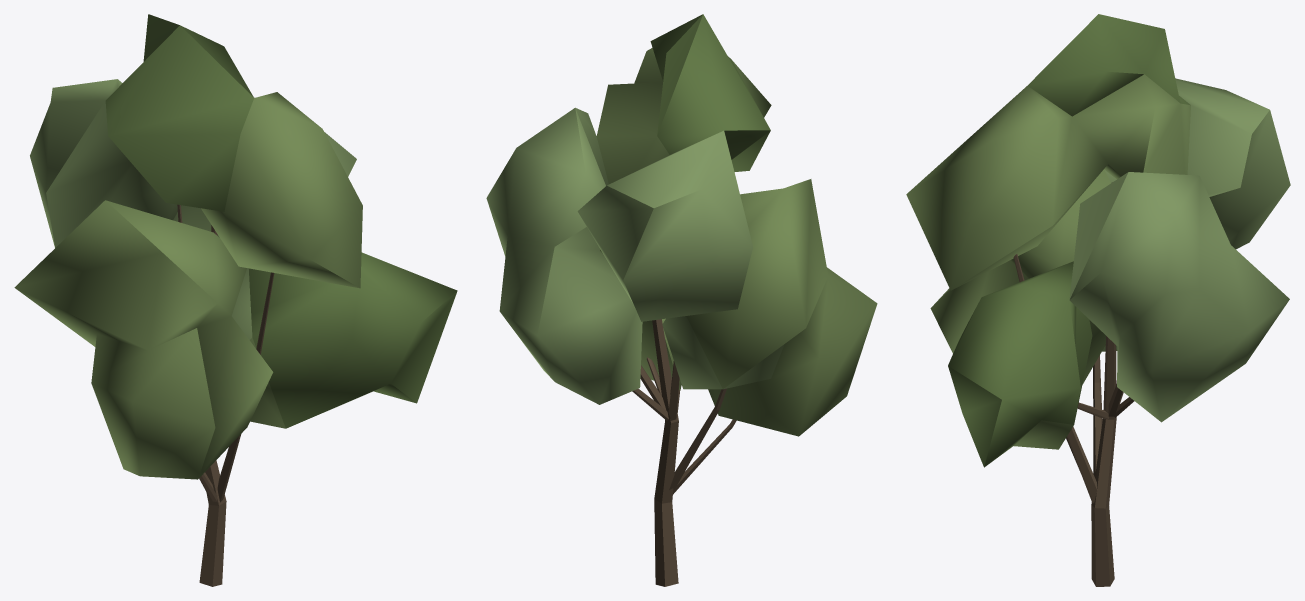
3 views of the same model, side by side, from view 1: azimuth 30°, elevation 25°; view 2: azimuth 150°, elevation 25°; view 3: azimuth 270°, elevation 25° (orthographic). The views are drawn at different scales.
Parts seen in each view (by area): view 1: Низкое лиственное; view 2: Низкое лиственное; view 3: Низкое лиственное.
Boxes of the visible parts, x1=… form: Низкое лиственное: x1=14, y1=14, x2=457, y2=586; Низкое лиственное: x1=486, y1=14, x2=877, y2=586; Низкое лиственное: x1=906, y1=14, x2=1290, y2=586.
Bounding box in the file's own units: 10.67 × 16.02 × 10.09.
